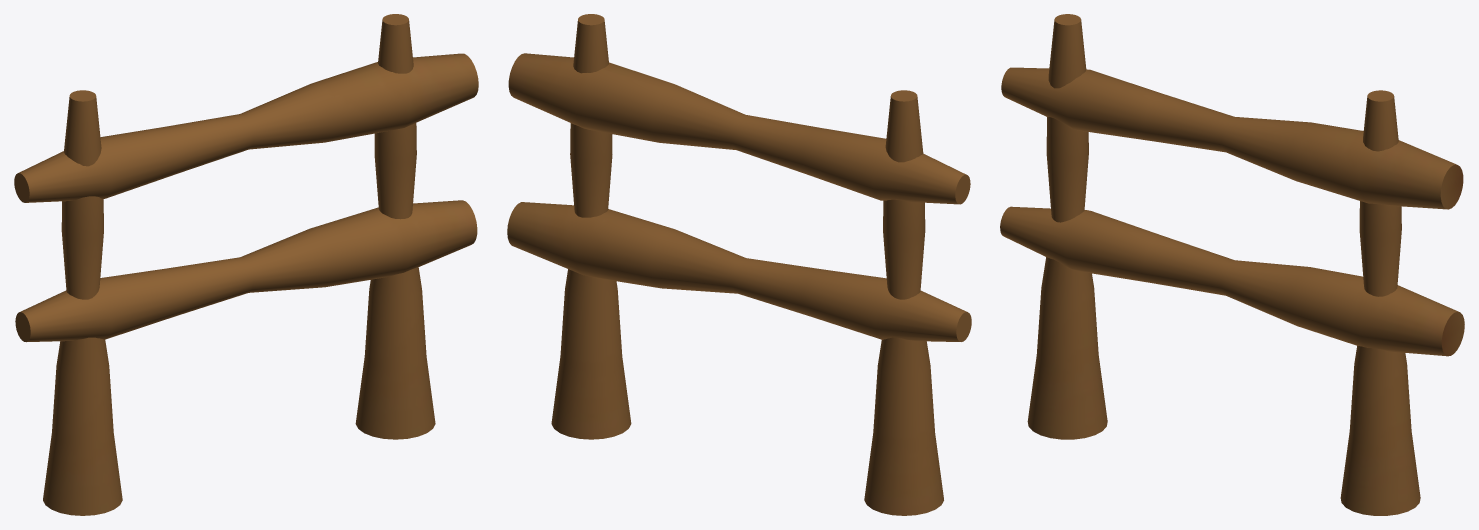
The model's file is fence.fbx.
The picture shows the model from 3 angles, left to right: view 1: azimuth 30°, elevation 25°; view 2: azimuth 150°, elevation 25°; view 3: azimuth 330°, elevation 25°; orthographic projection.
Visible parts, largest first — view 1: pasted__pasted__pasted__pCylinder10; view 2: pasted__pasted__pasted__pCylinder10; view 3: pasted__pasted__pasted__pCylinder10.
Boxes of the visible parts, box(x1,y1,x2,y2) form: pasted__pasted__pasted__pCylinder10: box(14, 14, 478, 515); pasted__pasted__pasted__pCylinder10: box(507, 14, 971, 515); pasted__pasted__pasted__pCylinder10: box(1000, 14, 1464, 515).
Bounding box in the file's own units: 0.1847 × 0.16 × 0.0288.
